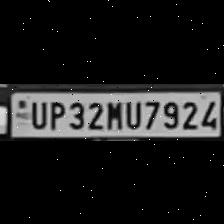2: (178, 97, 198, 129), (85, 98, 103, 130)
3: (66, 98, 84, 128)
4: (197, 97, 217, 128)
7: (141, 98, 159, 130)
9: (160, 98, 178, 130)
M: (104, 98, 122, 130)
P: (47, 98, 65, 130)
U: (26, 98, 46, 128), (123, 97, 141, 128)
